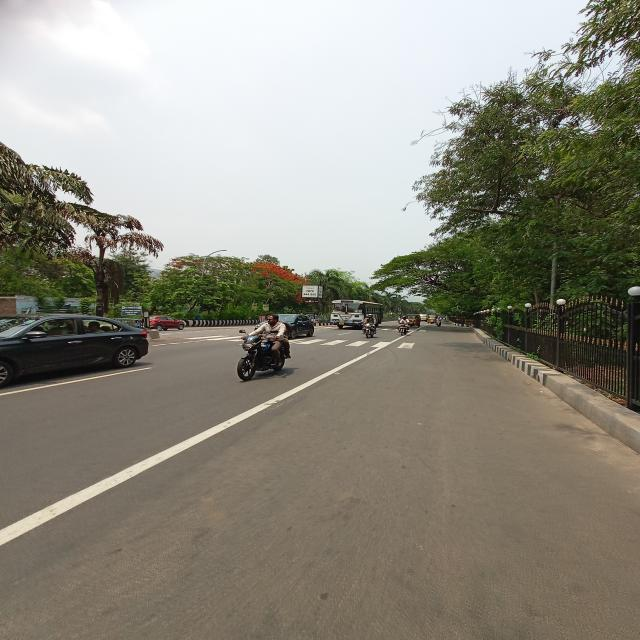bike: (234, 334, 301, 379), (359, 323, 380, 338), (396, 322, 414, 338)
bus: (328, 299, 385, 330)
car: (0, 304, 164, 378)
